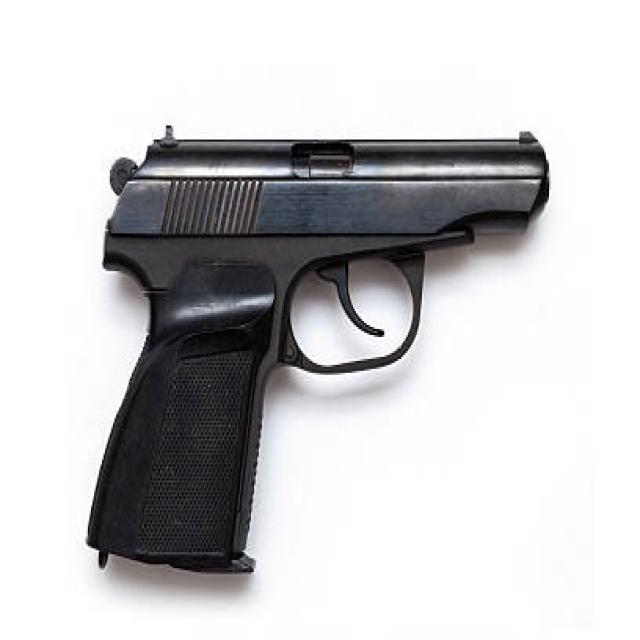pistol: (78, 115, 561, 590)
